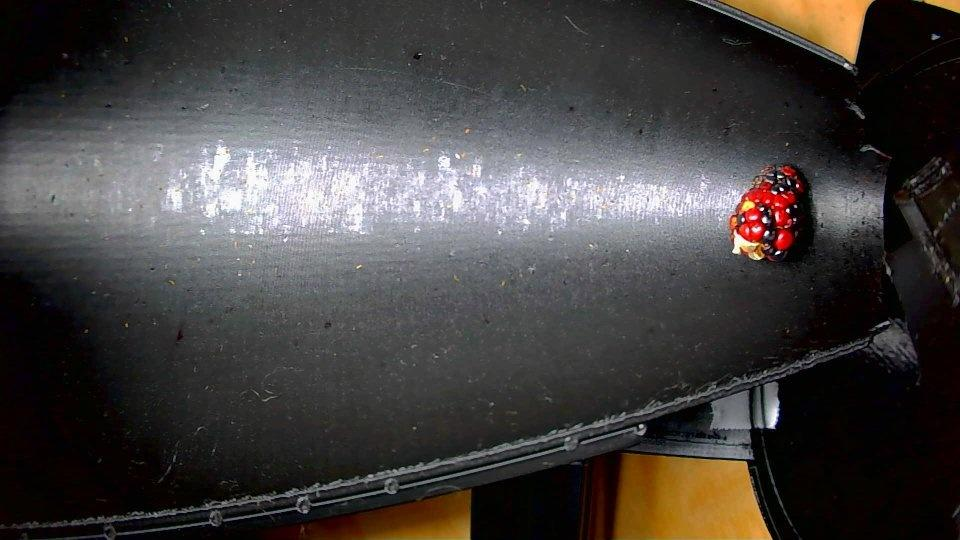berry: (730, 165, 806, 260)
